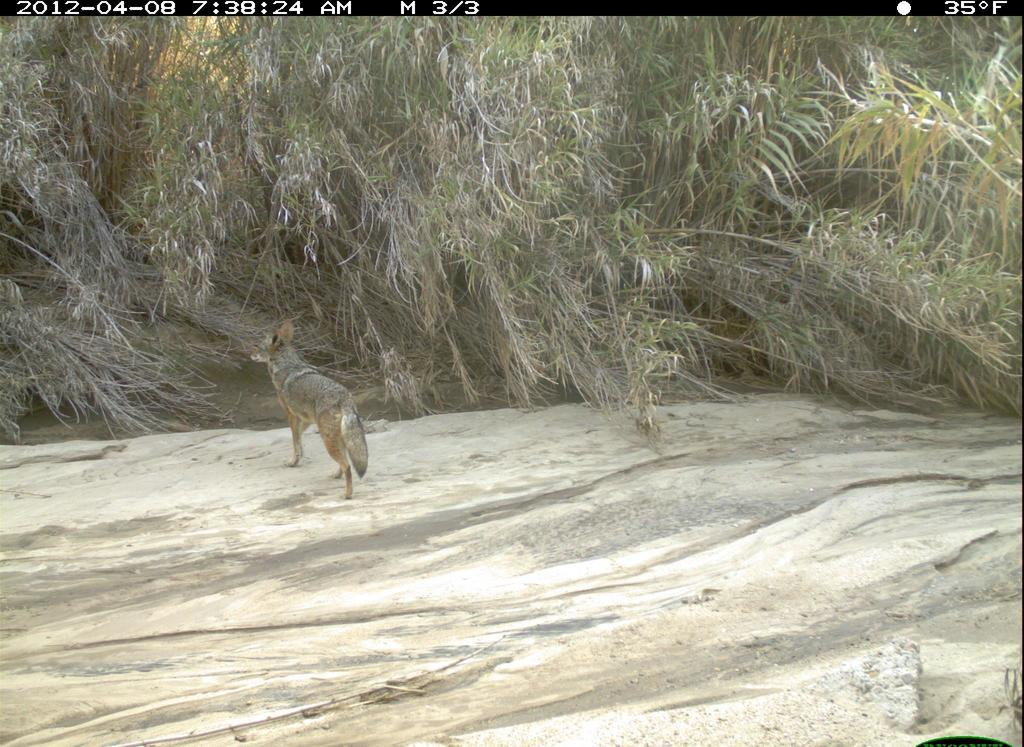coyote: (245, 313, 376, 498)
